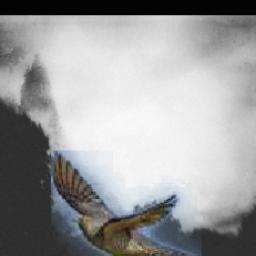Cuckoo: (51, 151, 202, 256)
